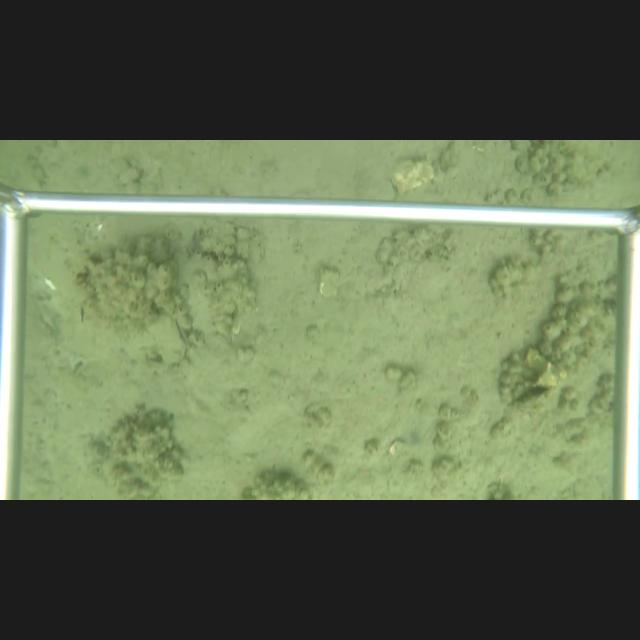Oyster-Closed: (114, 316, 193, 368)
Oyster-Open: (509, 383, 556, 415)
